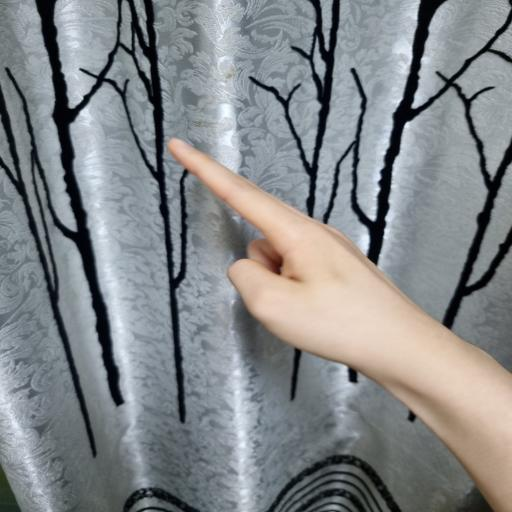Scissors: (166, 138, 512, 512)
